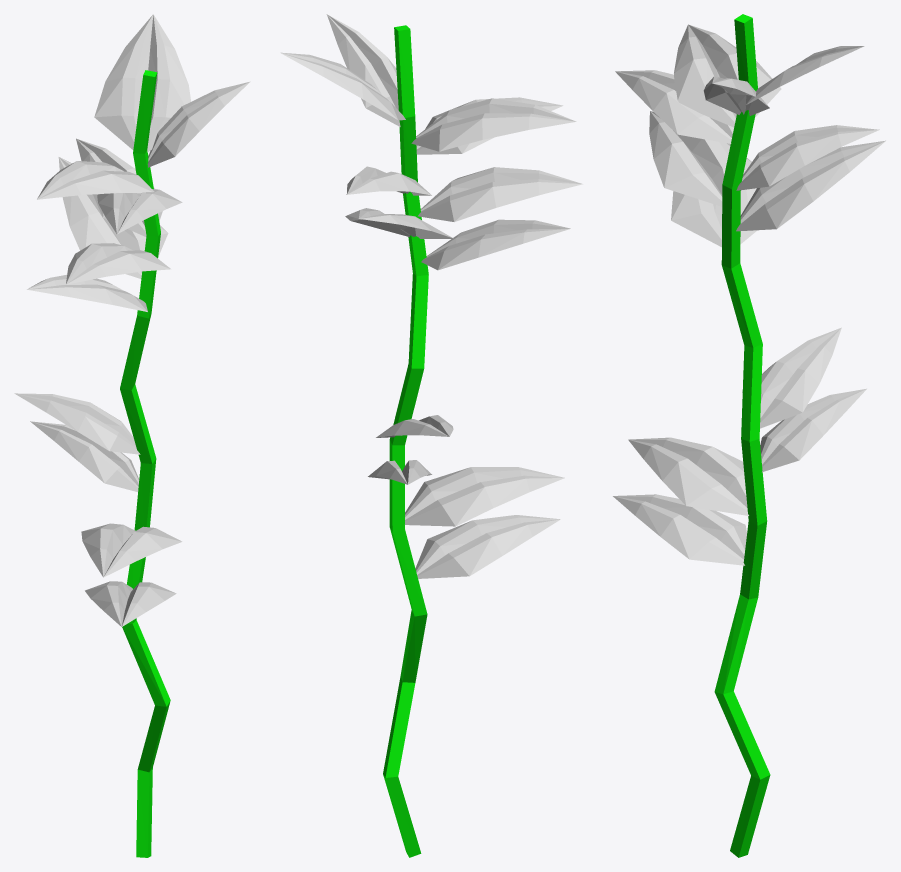
Rendered from grasBig_14.fbx.
3 views of the same model, side by side, from view 1: azimuth 30°, elevation 25°; view 2: azimuth 150°, elevation 25°; view 3: azimuth 270°, elevation 25° (orthographic). The views are drawn at different scales.
Parts seen in each view (by area): view 1: quickmaterial1; view 2: quickmaterial1; view 3: quickmaterial1.
Boxes of the visible parts, x1,y1,x2,y2 form: quickmaterial1: (14,14,250,857); quickmaterial1: (280,14,582,857); quickmaterial1: (613,14,885,857).
Size of the model in its own units: 0.3061 by 1.01 by 0.2961.
